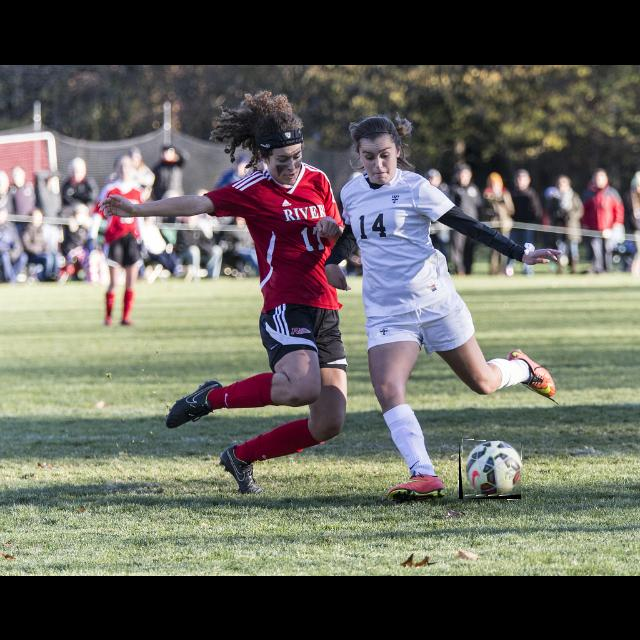Football: (459, 441, 521, 499)
